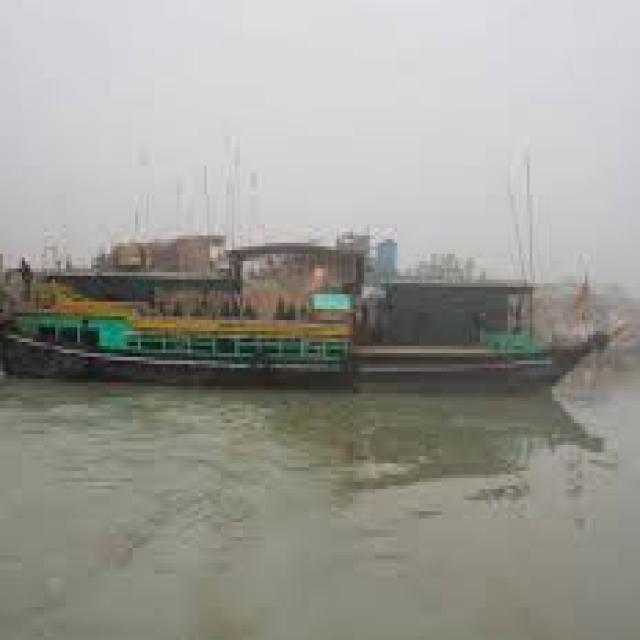cargoship: (0, 202, 607, 382)
